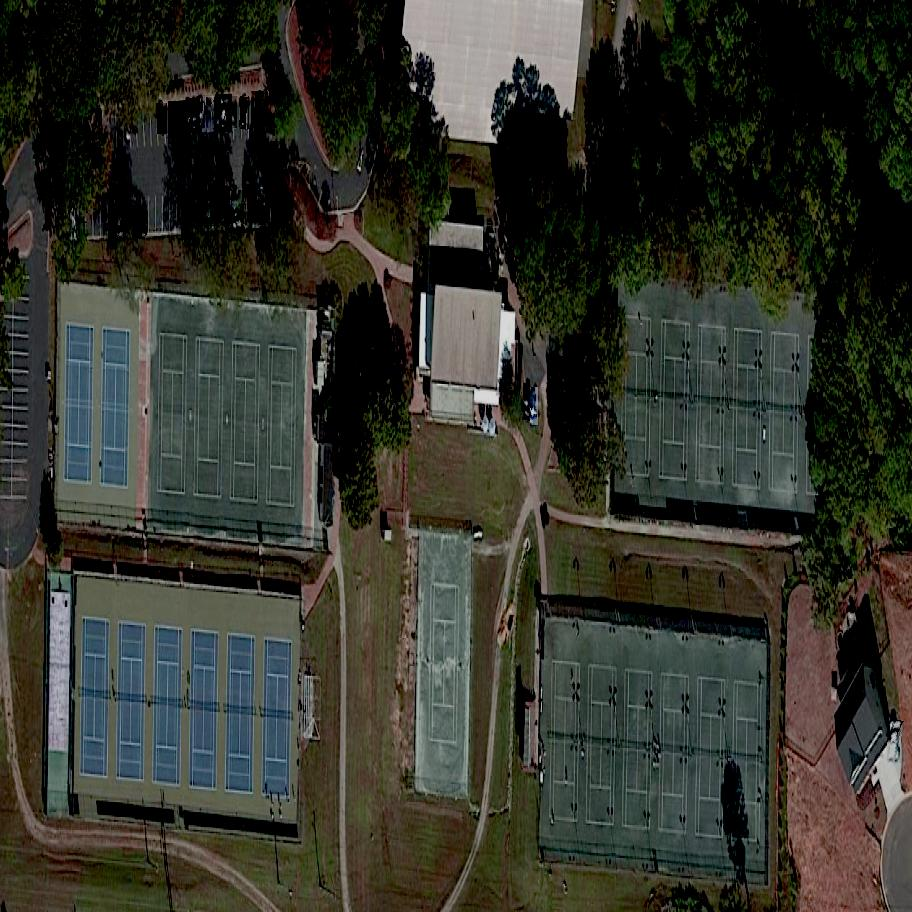small-vehicle: (225, 190, 246, 233), (887, 720, 902, 764), (216, 94, 232, 133), (199, 192, 217, 226), (221, 96, 239, 129), (168, 100, 183, 139), (253, 90, 268, 128), (201, 95, 215, 133), (131, 205, 144, 240), (189, 99, 202, 133), (214, 187, 226, 223), (176, 101, 189, 134), (112, 208, 125, 240), (222, 186, 232, 225), (156, 103, 168, 134), (182, 200, 191, 240), (531, 387, 540, 425), (240, 96, 250, 130), (211, 98, 221, 131), (210, 187, 219, 222), (184, 100, 194, 131), (197, 96, 206, 128), (524, 384, 531, 420), (142, 205, 149, 236)
